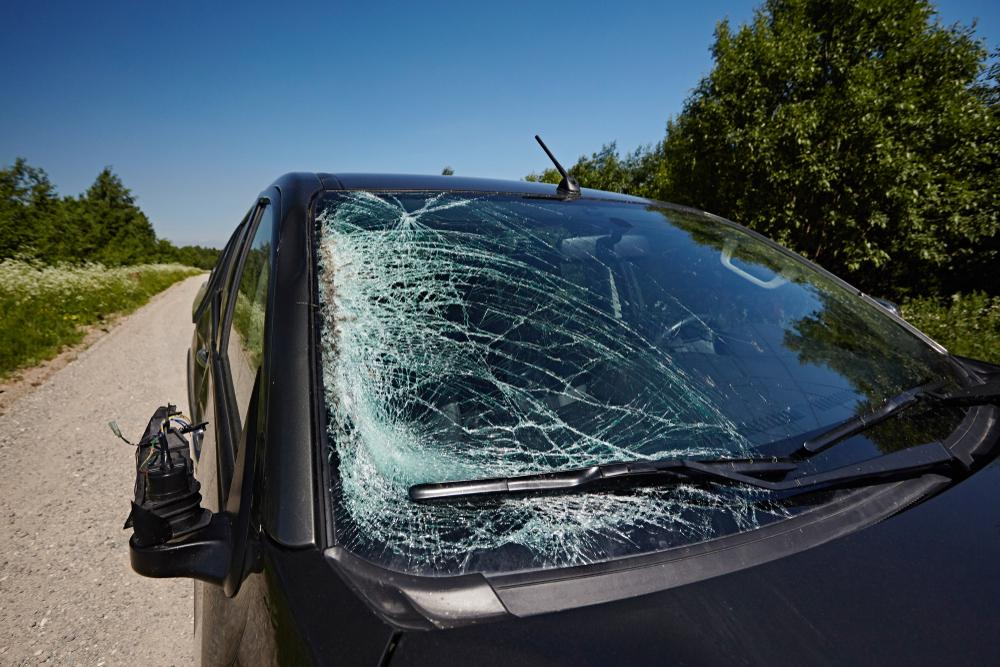glass shatter: (314, 189, 969, 577)
